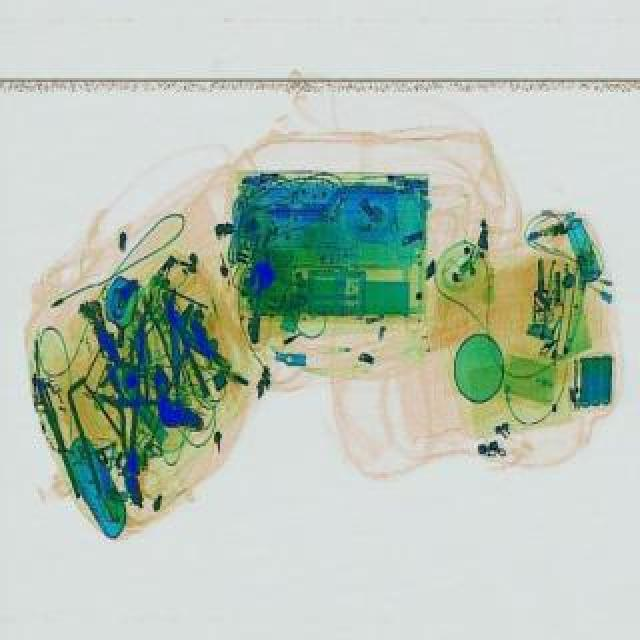wrench: (122, 290, 178, 382)
